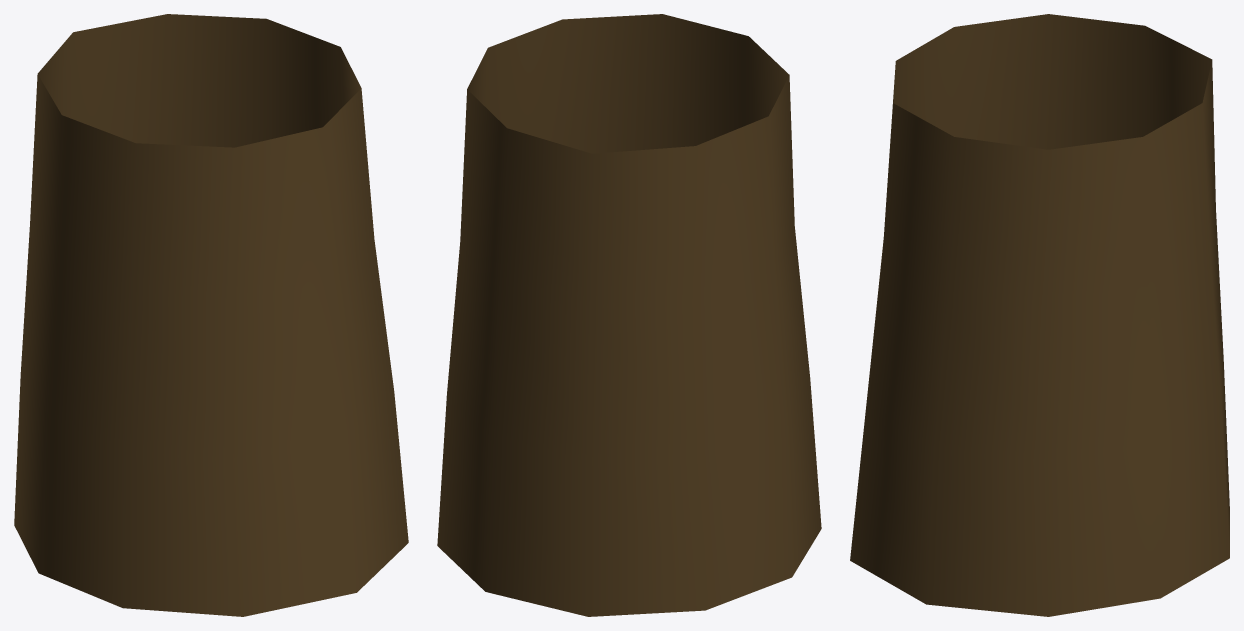
The model's file is mining_outfit_bracer.R.glb.
The picture shows the model from 3 angles, left to right: view 1: azimuth 30°, elevation 25°; view 2: azimuth 150°, elevation 25°; view 3: azimuth 270°, elevation 25°; orthographic projection.
Visible parts, largest first — view 1: mining_outfit_bracer.R; view 2: mining_outfit_bracer.R; view 3: mining_outfit_bracer.R.
Boxes of the visible parts, box(x1,y1,x2,y2) form: mining_outfit_bracer.R: box(14, 14, 408, 616); mining_outfit_bracer.R: box(437, 14, 821, 616); mining_outfit_bracer.R: box(850, 14, 1229, 616).
Size of the model in its own units: 0.1208 by 0.1562 by 0.1192.
